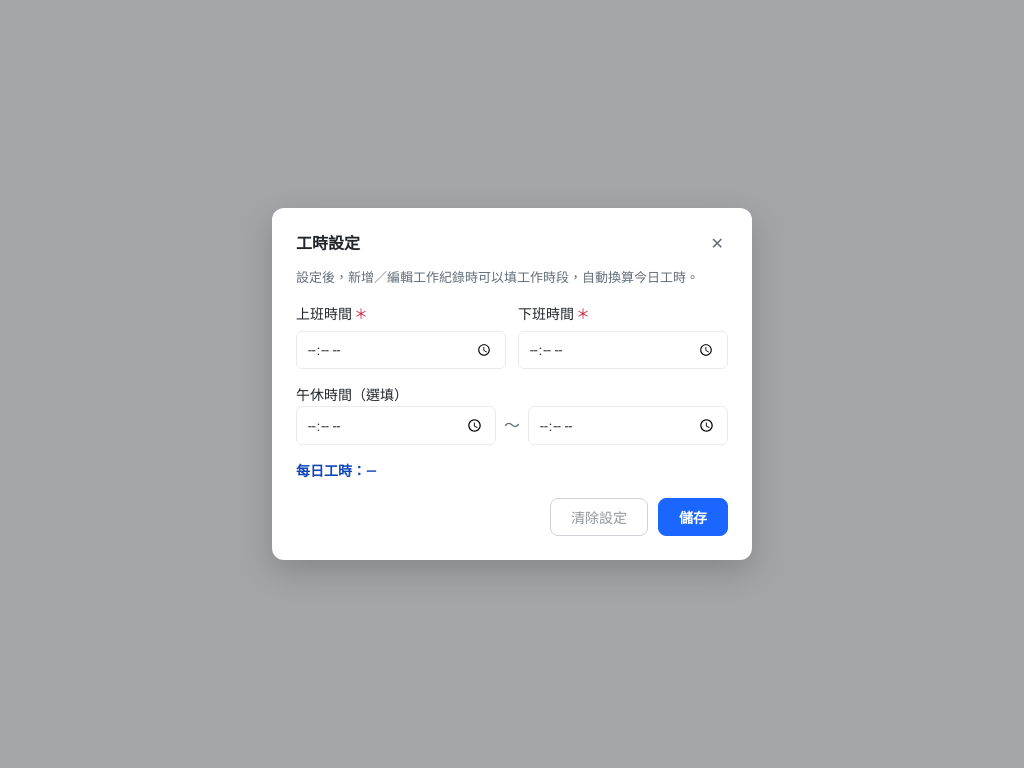
帶入與顯示 › 離開時間欄位時四捨五入到 15 分鐘
Step 1. Type "08:37" into the time field labelled "上班時間 ＊" → [401, 350], box [296,331,506,369]
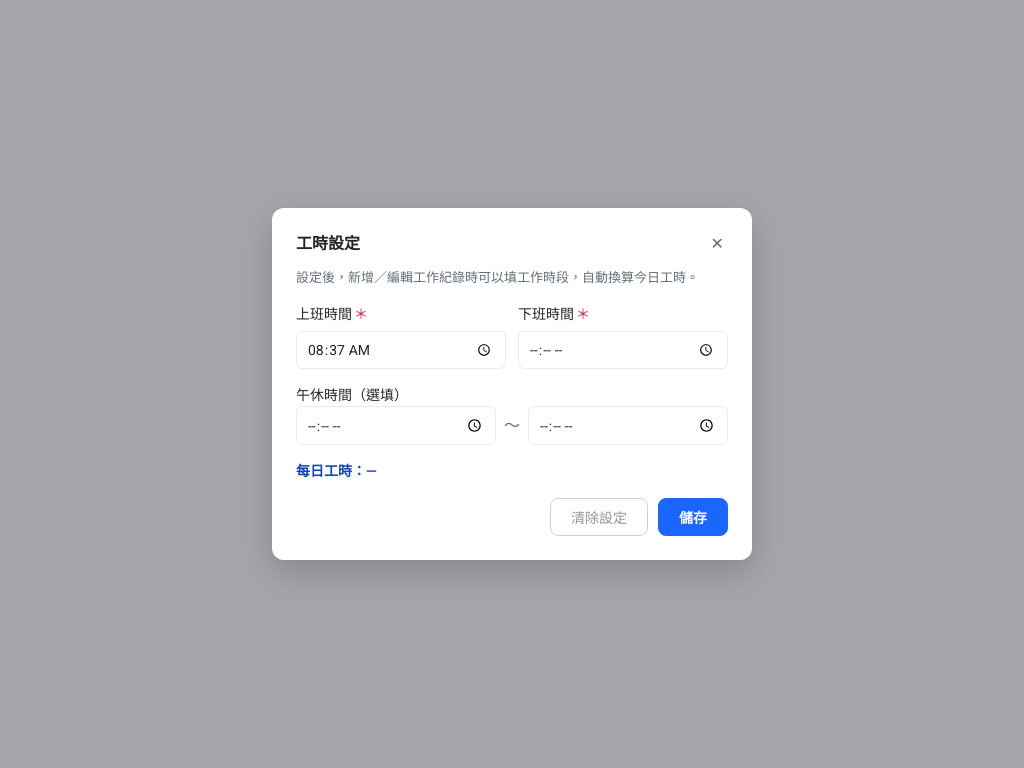
Step 2. Leave the time field labelled "上班時間 ＊", box [296,331,506,369]
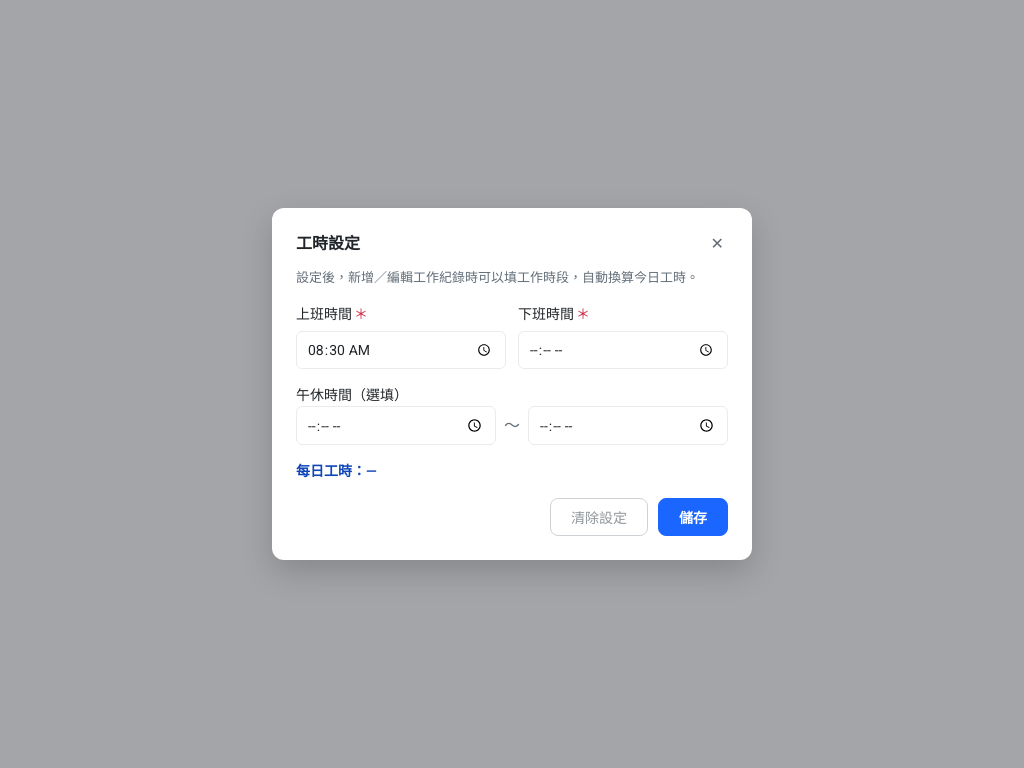
Now the time field labelled "上班時間 ＊" holds "08:30", box [296,331,506,369]
